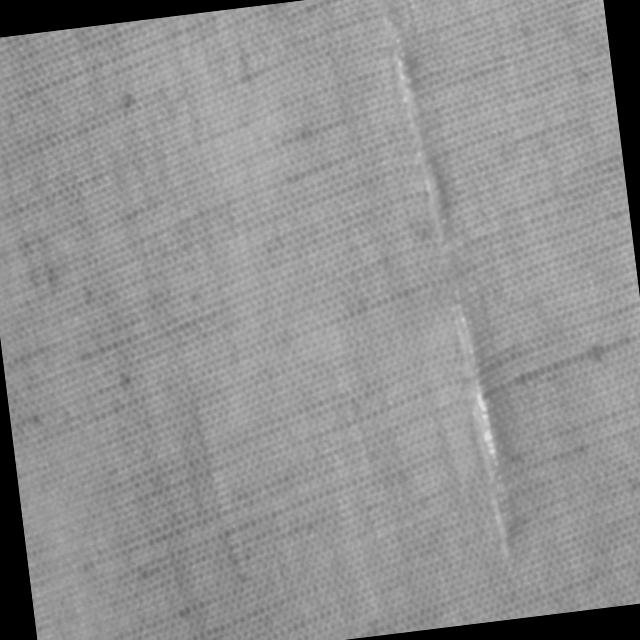thread error: (379, 0, 527, 561)
